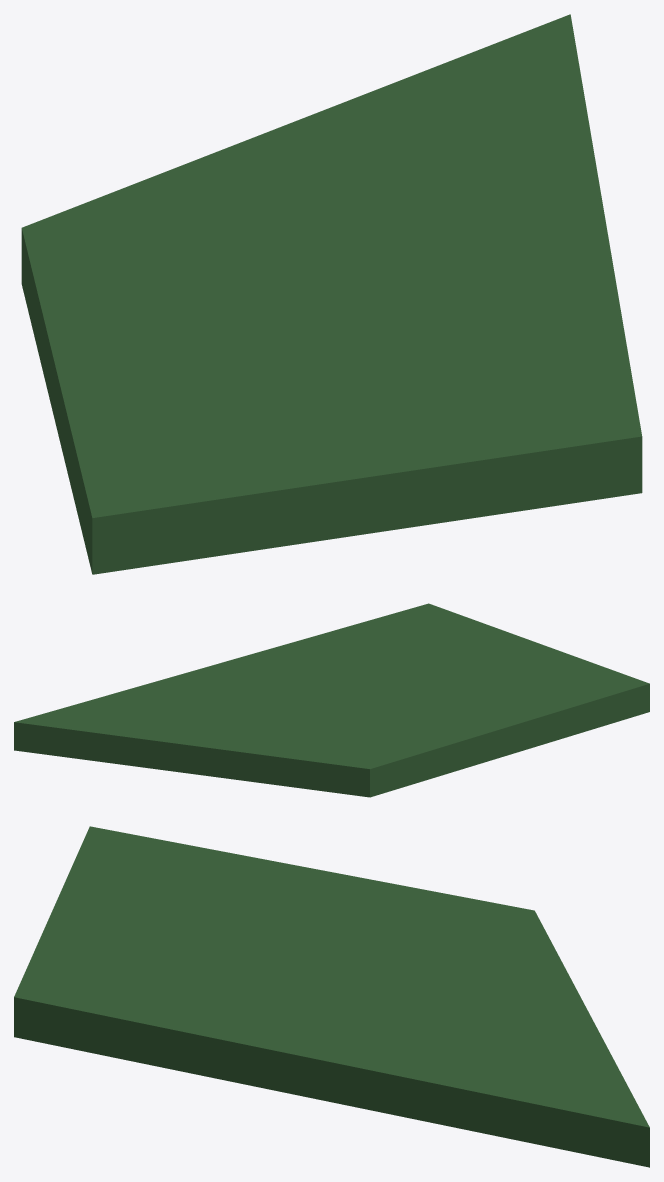
The model's file is x_proval_00_130_1_rmstrd.fbx.
3 views of the same model, one above another, from view 1: azimuth 30°, elevation 25°; view 2: azimuth 150°, elevation 25°; view 3: azimuth 270°, elevation 25° (orthographic). The views are drawn at different scales.
Parts seen in each view (by area): view 1: x_proval_00_130_1_rmstrd1; view 2: x_proval_00_130_1_rmstrd1; view 3: x_proval_00_130_1_rmstrd1.
Boxes of the visible parts, bbox=[...] form: x_proval_00_130_1_rmstrd1: bbox=[21, 14, 642, 574]; x_proval_00_130_1_rmstrd1: bbox=[14, 603, 649, 797]; x_proval_00_130_1_rmstrd1: bbox=[14, 826, 649, 1167].
Size of the model in its own units: 3.23 by 0.2 by 2.88.
